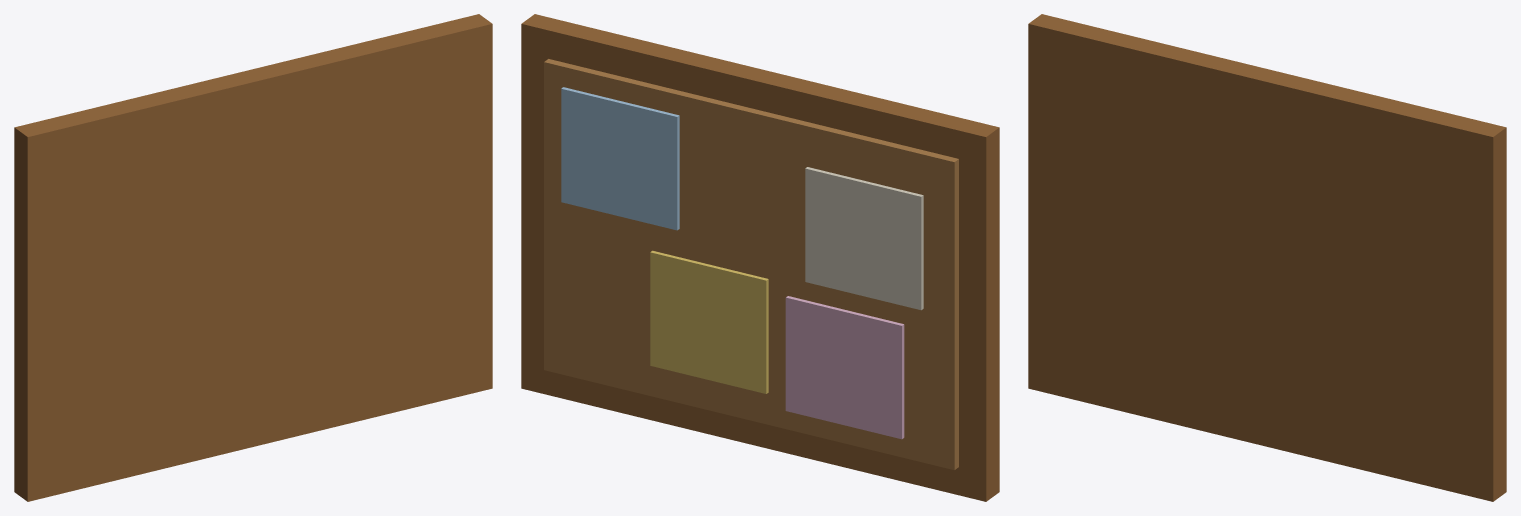
The model's file is th-notice.glb.
3 renders of one model, left to right at view 1: azimuth 30°, elevation 25°; view 2: azimuth 150°, elevation 25°; view 3: azimuth 330°, elevation 25°, orthographic.
Parts seen in each view (by area): view 1: box-prop; view 2: box-prop; view 3: box-prop.
Part boxes in pixels (left/top/right/bottom): box-prop: left=14, top=14, right=492, bottom=501; box-prop: left=521, top=14, right=999, bottom=501; box-prop: left=1028, top=14, right=1506, bottom=501.
Size of the model in its own units: 1.2 by 0.9 by 0.09.
